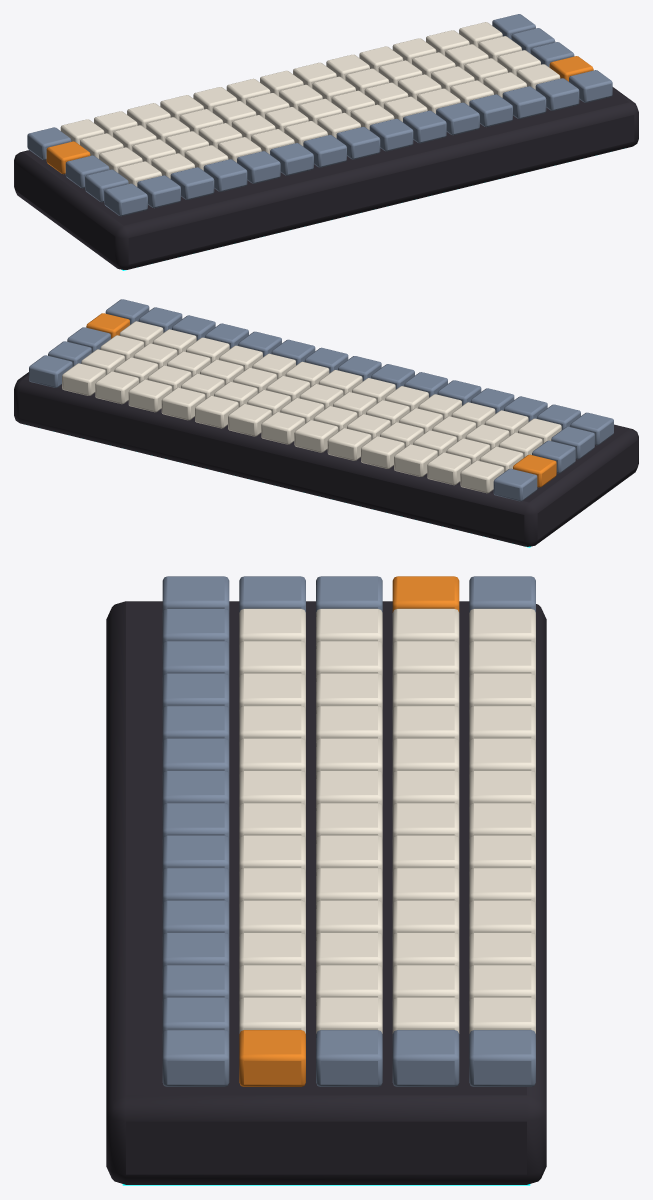
Rendered from keyboard_mech.fbx.
3 views of the same model, one above another, from view 1: azimuth 30°, elevation 25°; view 2: azimuth 150°, elevation 25°; view 3: azimuth 270°, elevation 25° (orthographic). The views are drawn at different scales.
Visible parts, largest first — view 1: KeyboardMech; view 2: KeyboardMech; view 3: KeyboardMech.
Part boxes in pixels (left/top/right/bottom): KeyboardMech: left=14, top=14, right=638, bottom=270; KeyboardMech: left=14, top=299, right=638, bottom=547; KeyboardMech: left=106, top=576, right=546, bottom=1185.
Size of the model in its own units: 0.37 by 0.041 by 0.135.
